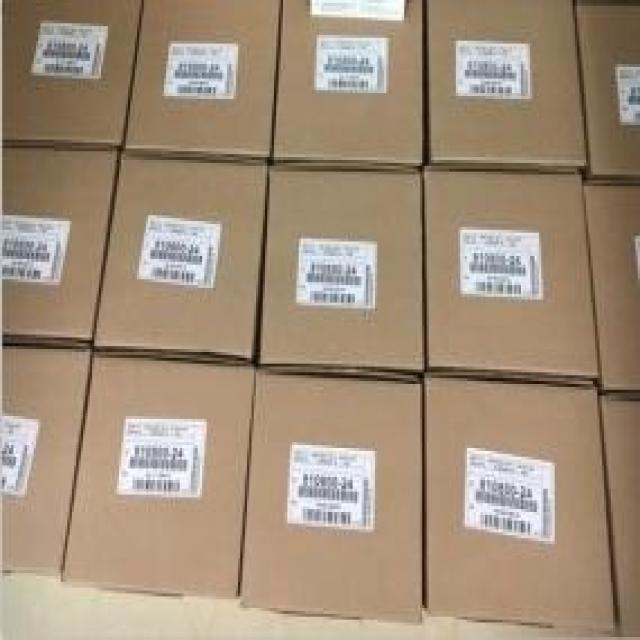box: (423, 378, 614, 629), (62, 352, 255, 599), (240, 368, 423, 624), (424, 171, 600, 385), (94, 155, 271, 364), (260, 167, 423, 376), (422, 2, 585, 168), (121, 2, 282, 160), (271, 2, 425, 167), (0, 145, 119, 349), (0, 343, 91, 575), (0, 3, 143, 147), (582, 177, 638, 393), (576, 0, 638, 178), (600, 394, 640, 640)
